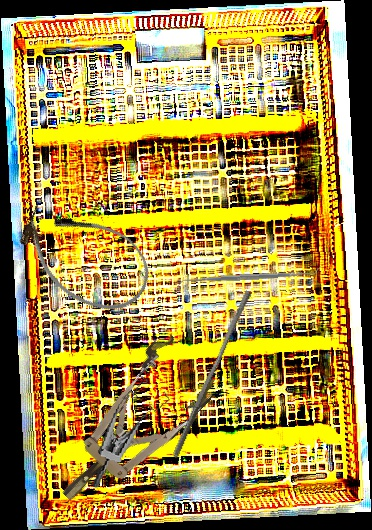Cannula: (4, 187, 165, 328)
Pusher: (171, 287, 253, 462)
Spatula Surgical: (177, 265, 322, 288)
Speculum: (35, 329, 225, 524), (90, 369, 174, 500)
